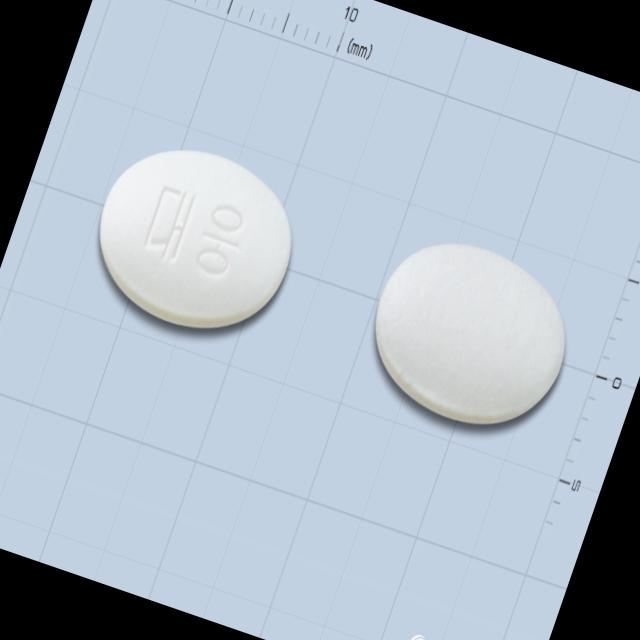Moxicle Tab-625mg: (75, 122, 314, 352)
